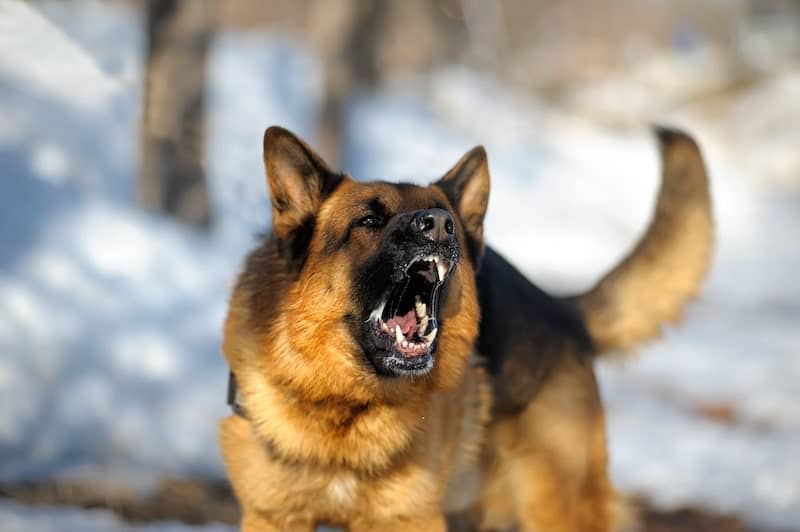dog: (220, 116, 734, 526)
